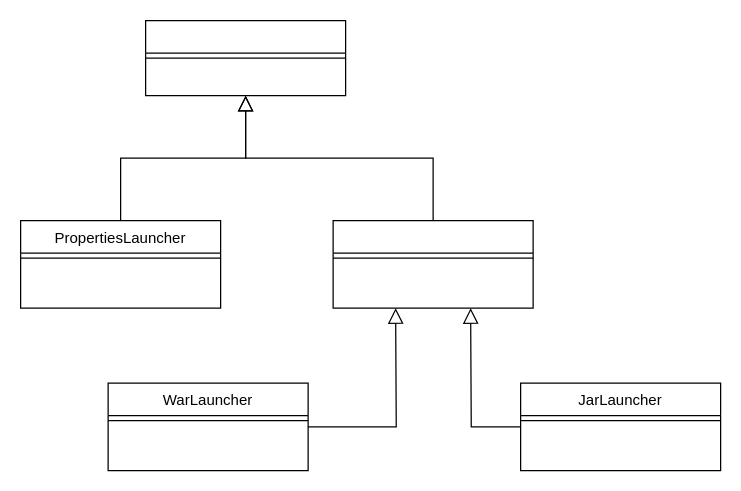
The diagram is 741 pixels wide and 491 high, and some of its shapes have lost their labels. The shapes that lost their labels are listed below. From the top down, each one's centre as x and y in pixels, then its label:
[245,57]: Launcher
[432,263]: ExecutableArchiveLauncher
